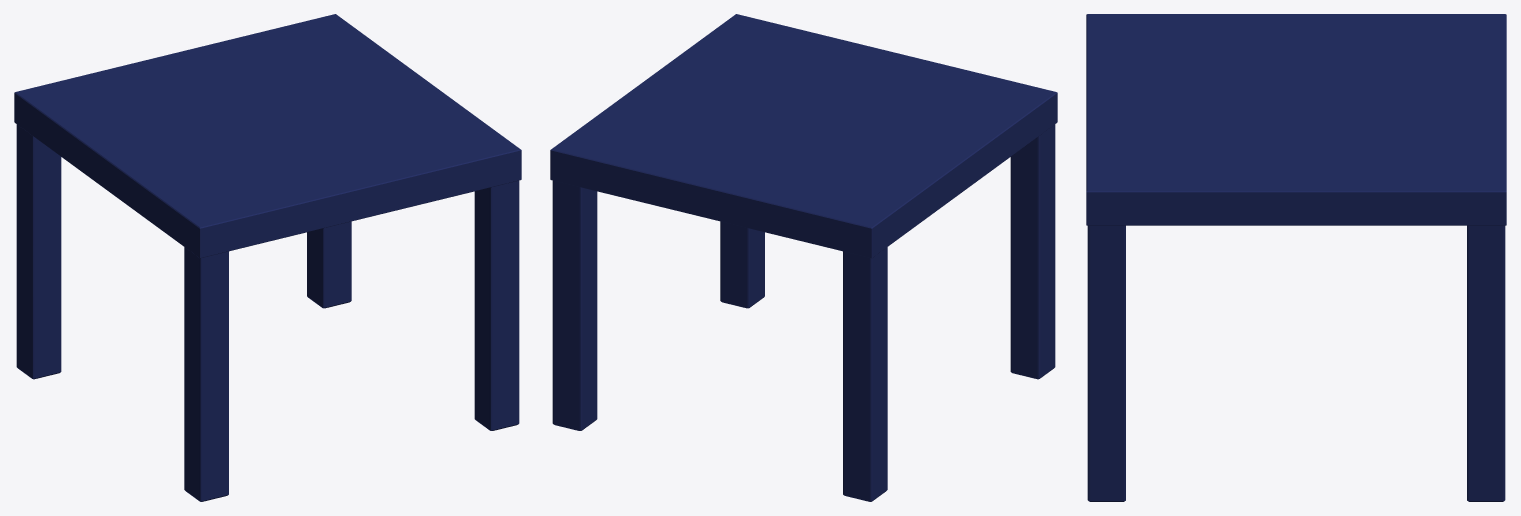
File: table.fbx
The picture shows the model from 3 angles, left to right: view 1: azimuth 30°, elevation 25°; view 2: azimuth 150°, elevation 25°; view 3: azimuth 270°, elevation 25°; orthographic projection. The views are drawn at different scales.
Visible parts, largest first — view 1: Table_Carre; view 2: Table_Carre; view 3: Table_Carre.
Boxes of the visible parts, left/top/right/bottom form: Table_Carre: left=14, top=14, right=521, bottom=501; Table_Carre: left=550, top=14, right=1057, bottom=501; Table_Carre: left=1086, top=14, right=1506, bottom=501.
Bounding box in the file's own units: 55 × 45 × 55.
